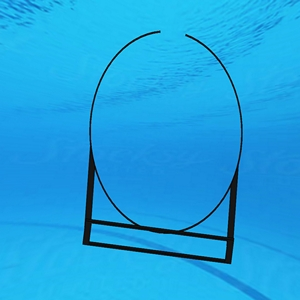circle: (80, 25, 247, 275)
